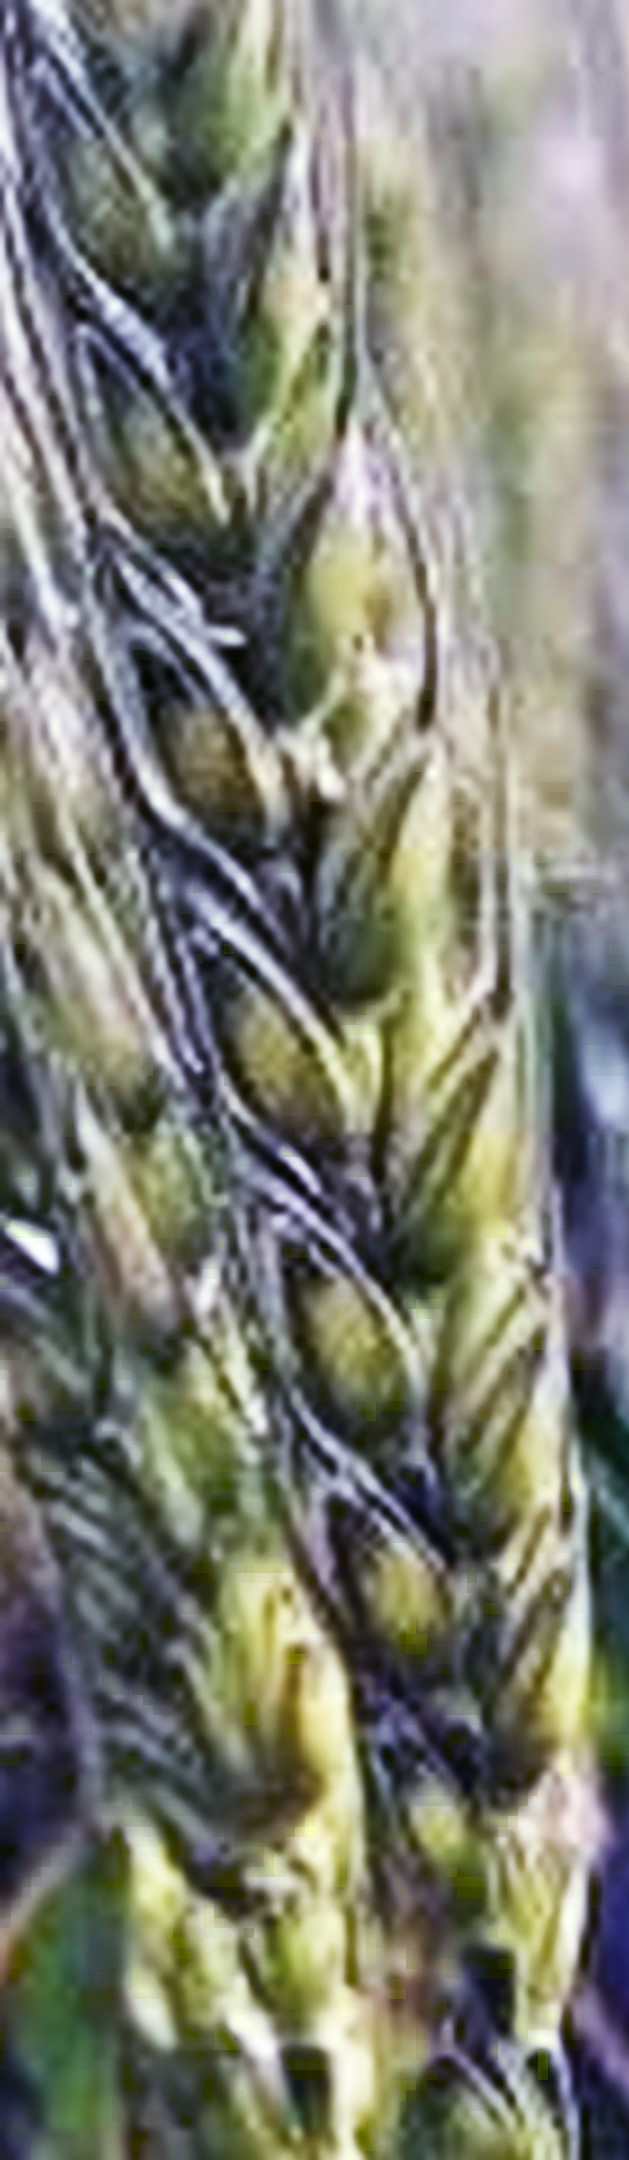Healthy Wheat: (21, 45, 629, 1880)
